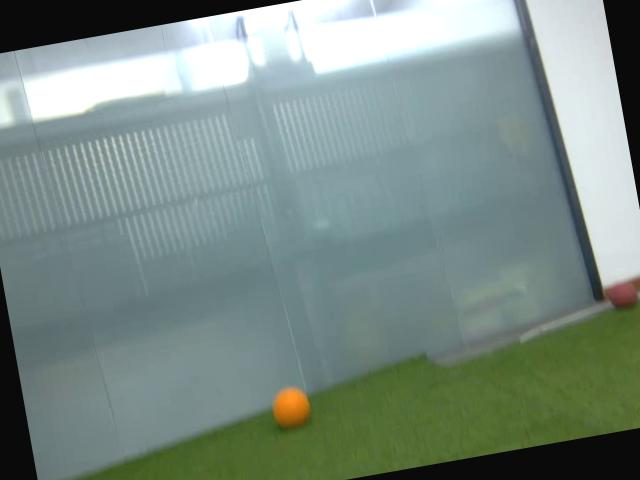orange_ball: (266, 382, 316, 433)
red_ball: (603, 276, 640, 311)
